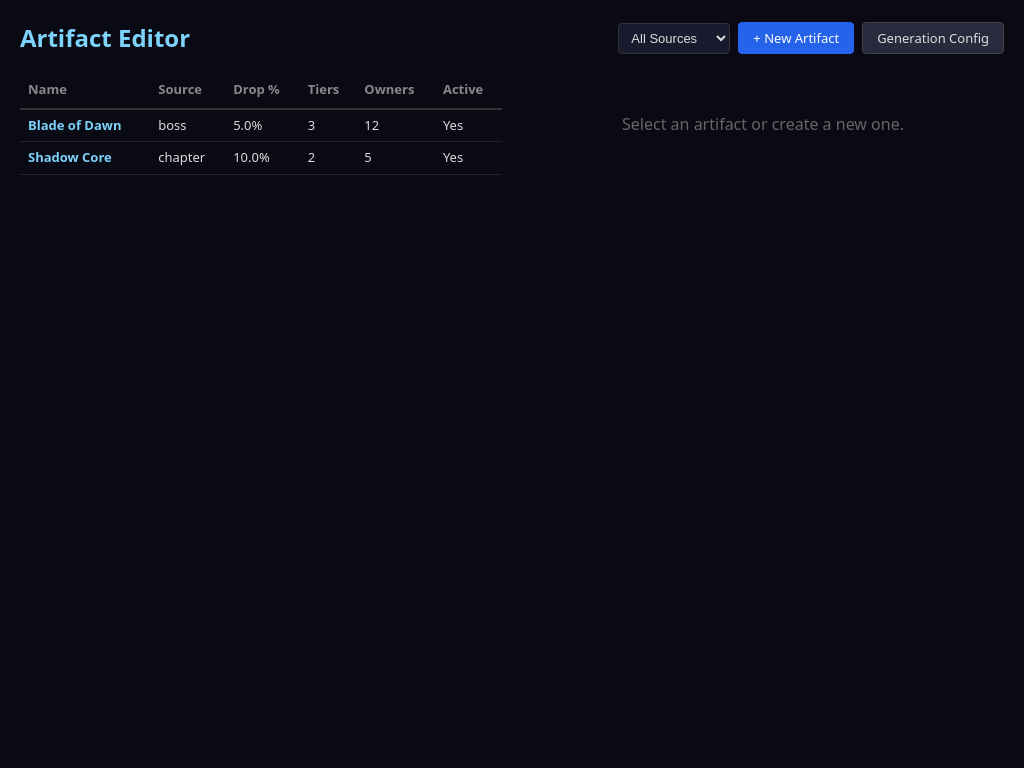
Test: ArtifactEditor › enters edit mode
Step 1. Click the text "Blade of Dawn" → [85, 125], box x1=20 y1=108 x2=150 y2=142
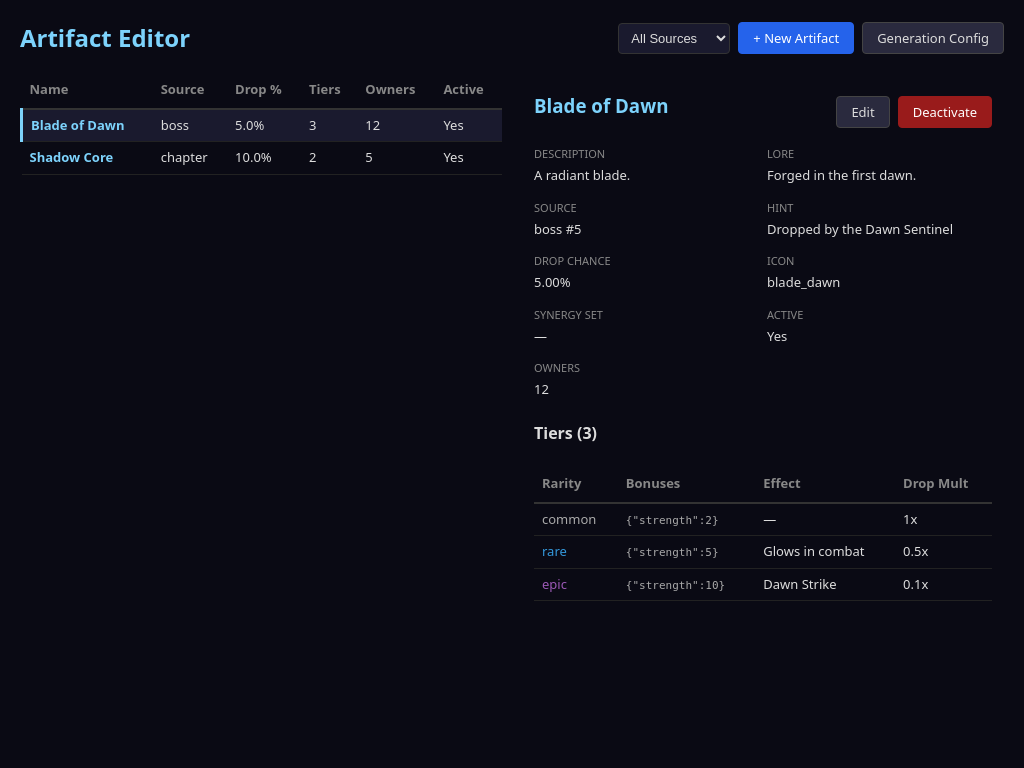
Now the button "Edit" is shown
Step 2. Click the button "Edit" → [863, 112], box x1=836 y1=96 x2=890 y2=128
(page scrolled)
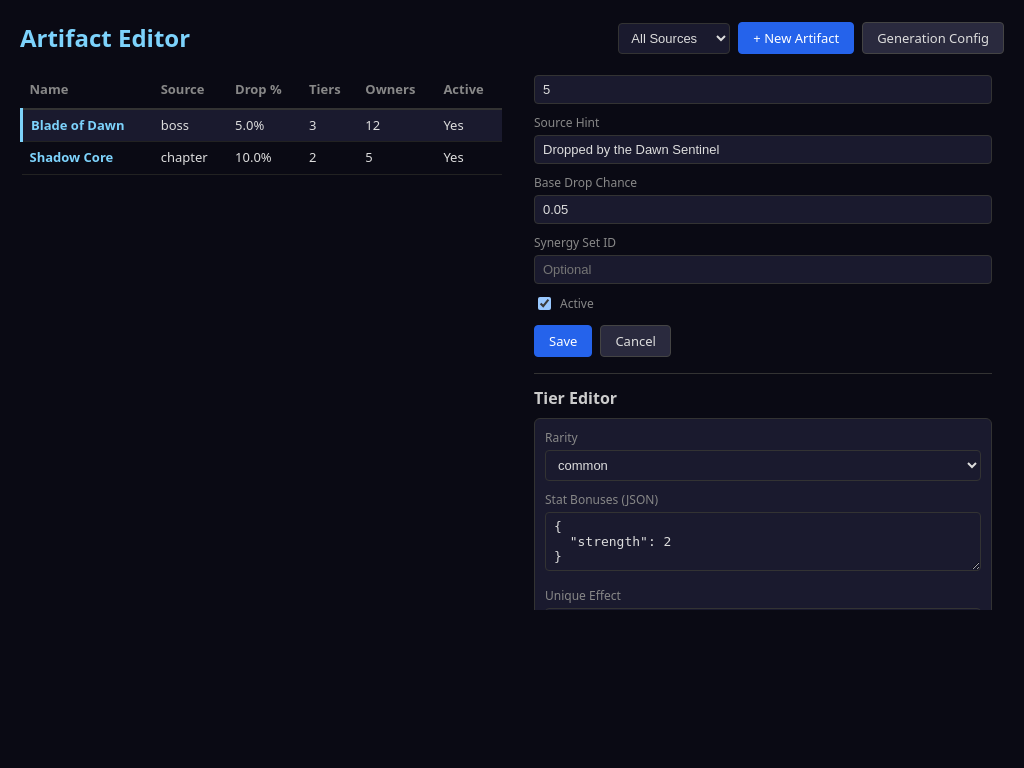
Now the button "Save" is shown, box x1=534 y1=325 x2=592 y2=357
Now the button "Cancel" is shown, box x1=600 y1=325 x2=671 y2=357
